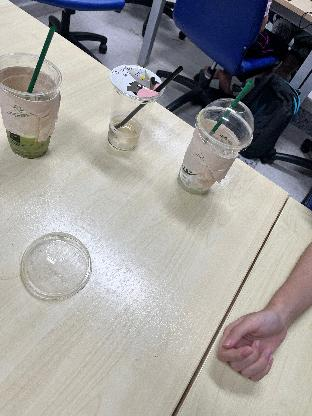Plastic Cup: (176, 104, 254, 208), (0, 50, 62, 160), (104, 63, 162, 151), (196, 94, 258, 152)
